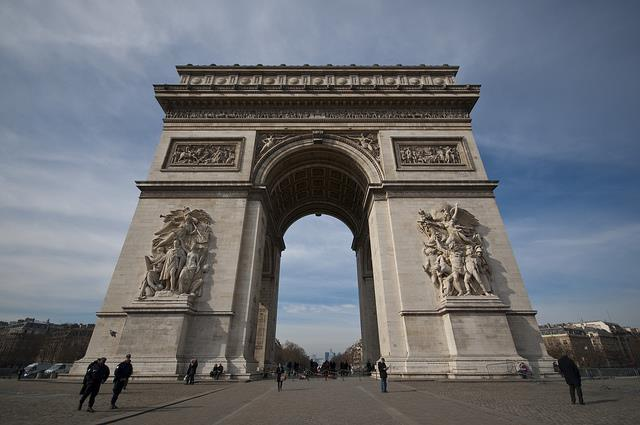Triumphal_Arch: (72, 61, 555, 377)
